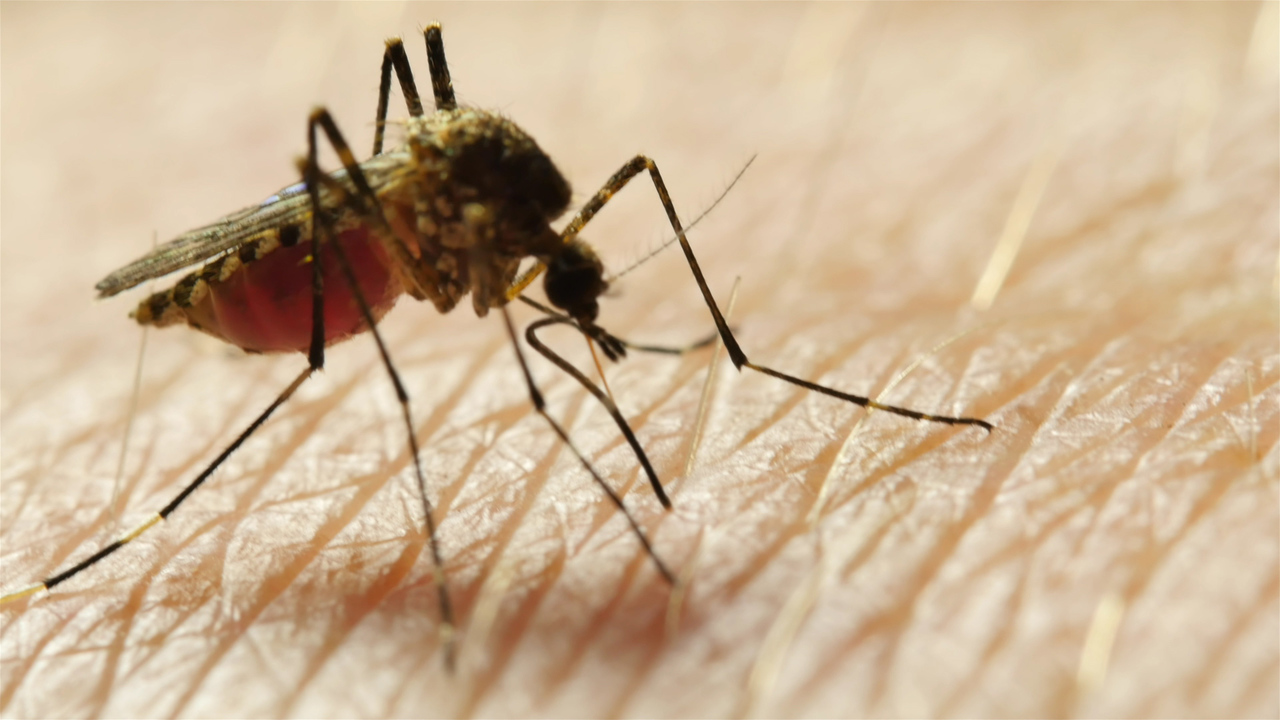dengue_mosquito: (92, 20, 889, 507)
